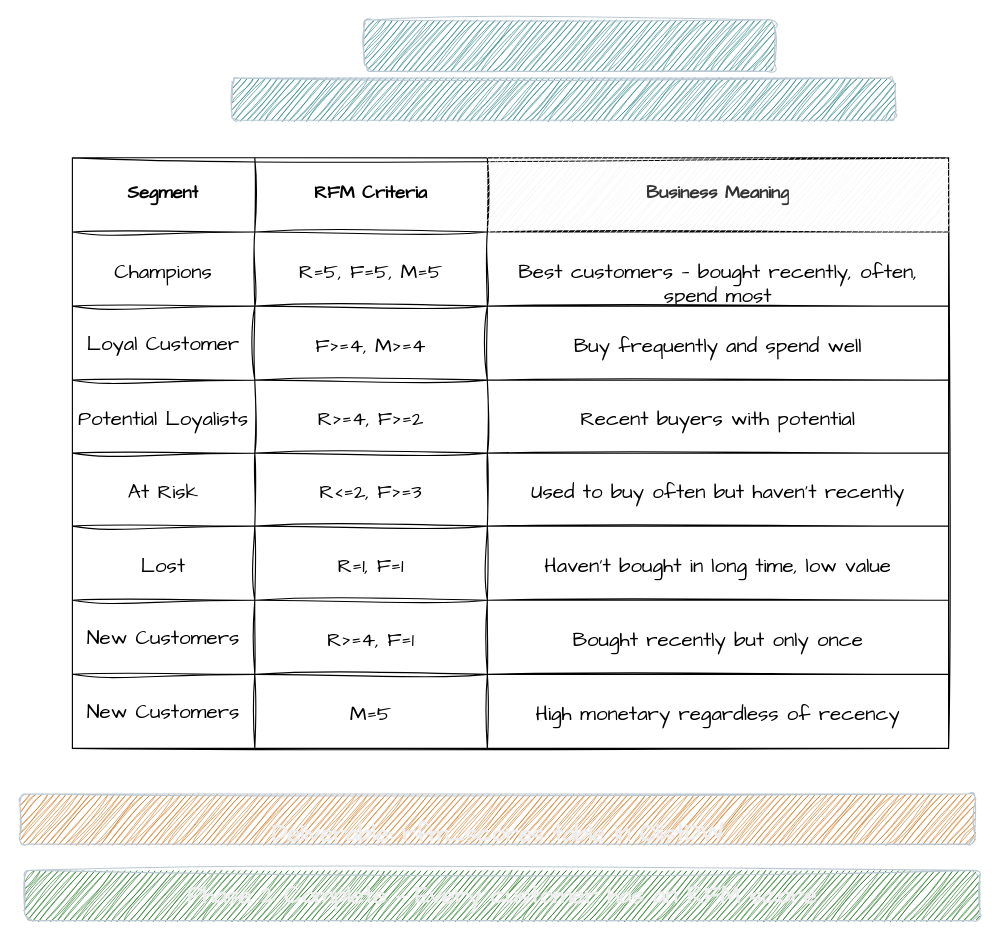
Some shapes in this 1000 by 941 pixel diagram are drawn without their labels. Here are the shapes that lost their labels. From the top down, the centre of each, then its label:
point 569,45: Phase 2 — RFM Calculation
point 563,98: Duration: 3–4 hours | Tool: SQL Server
